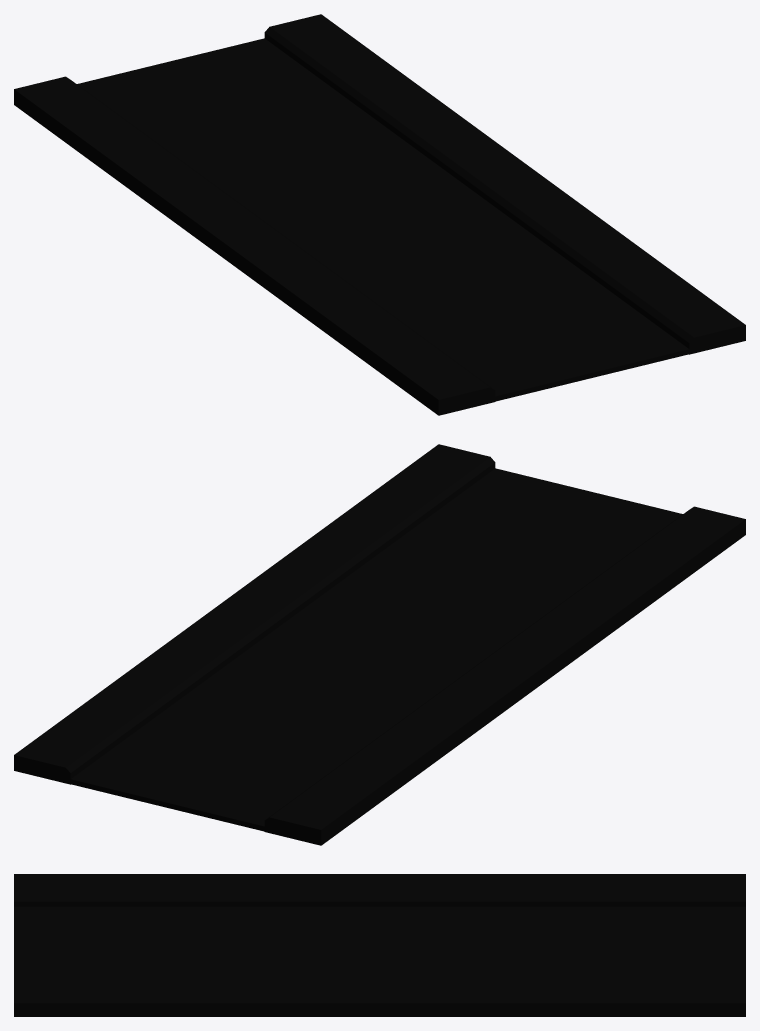
The model's file is Road.glb.
3 renders of one model, top to bottom at view 1: azimuth 30°, elevation 25°; view 2: azimuth 150°, elevation 25°; view 3: azimuth 270°, elevation 25°, orthographic. The views are drawn at different scales.
Parts seen in each view (by area): view 1: Road; view 2: Road; view 3: Road.
Part boxes in pixels (<box>): Road: <box>14,14,745,415</box>; Road: <box>14,444,745,845</box>; Road: <box>14,874,745,1016</box>.
Size of the model in its own units: 433 by 21.24 by 1036.
Materials: 1 (1 with a texture image).
